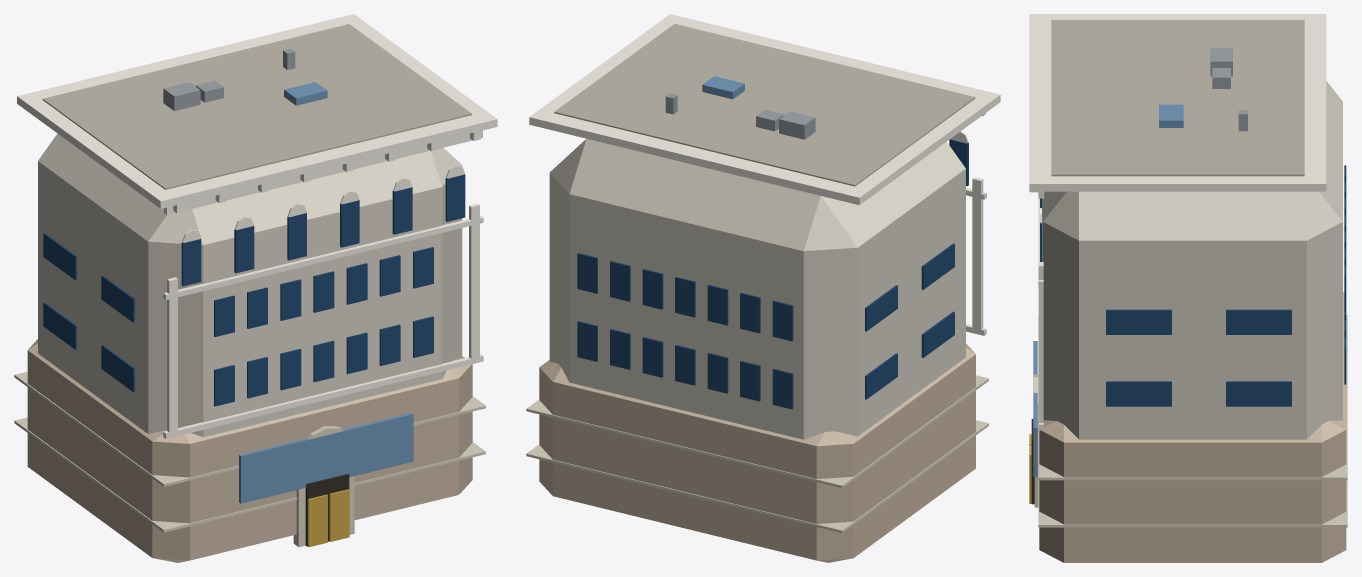
File: office_f5_punched_w18.glb
The picture shows the model from 3 angles, left to right: view 1: azimuth 30°, elevation 25°; view 2: azimuth 150°, elevation 25°; view 3: azimuth 270°, elevation 25°; orthographic projection. The views are drawn at different scales.
Visible parts, largest first — view 1: walls, base, roofslab, corn, baseglass, belt1, belt2, frieze, rustband, qpier, qpier.001, rustband.001 (+30 smaller); view 2: walls, base, roofslab, corn, rustband, rustband.001, qpier, sb.004, sb, sb.002, sb.006, hvac (+15 smaller); view 3: walls, roofslab, base, corn, rustband.001, sb.001, sb.003, sb.005, sb.007, rustband, qpier.001, baseglass (+2 smaller).
Part boxes in pixels (left/top/right/bottom): walls: left=38, top=133, right=462, bottom=437; base: left=27, top=339, right=472, bottom=562; roofslab: left=42, top=24, right=471, bottom=189; corn: left=17, top=14, right=497, bottom=208; baseglass: left=239, top=412, right=413, bottom=503; belt1: left=163, top=354, right=483, bottom=438; belt2: left=163, top=216, right=483, bottom=300; frieze: left=164, top=130, right=482, bottom=214; rustband: left=14, top=417, right=485, bottom=532; qpier: left=167, top=277, right=177, bottom=437; qpier.001: left=469, top=203, right=479, bottom=362; rustband.001: left=14, top=371, right=485, bottom=486; walls: left=549, top=138, right=965, bottom=439; base: left=539, top=343, right=975, bottom=562; roofslab: left=554, top=23, right=975, bottom=186; corn: left=529, top=14, right=1000, bottom=205; rustband: left=526, top=420, right=988, bottom=532; rustband.001: left=526, top=375, right=988, bottom=488; qpier: left=972, top=177, right=983, bottom=331; sb.004: left=921, top=243, right=954, bottom=289; sb: left=921, top=311, right=954, bottom=357; sb.002: left=865, top=353, right=897, bottom=399; sb.006: left=865, top=285, right=897, bottom=331; hvac: left=779, top=111, right=815, bottom=139; walls: left=1043, top=81, right=1342, bottom=439; roofslab: left=1051, top=20, right=1304, bottom=176; base: left=1039, top=292, right=1346, bottom=562; corn: left=1029, top=14, right=1326, bottom=191; rustband.001: left=1038, top=315, right=1347, bottom=480; sb.001: left=1106, top=381, right=1171, bottom=406; sb.003: left=1226, top=381, right=1291, bottom=406; sb.005: left=1106, top=309, right=1171, bottom=334; sb.007: left=1226, top=309, right=1291, bottom=334; rustband: left=1038, top=480, right=1347, bottom=527; qpier.001: left=1038, top=262, right=1043, bottom=422; baseglass: left=1033, top=341, right=1037, bottom=476.
Size of the model in its own units: 19.3 by 21.9 by 15.28.
